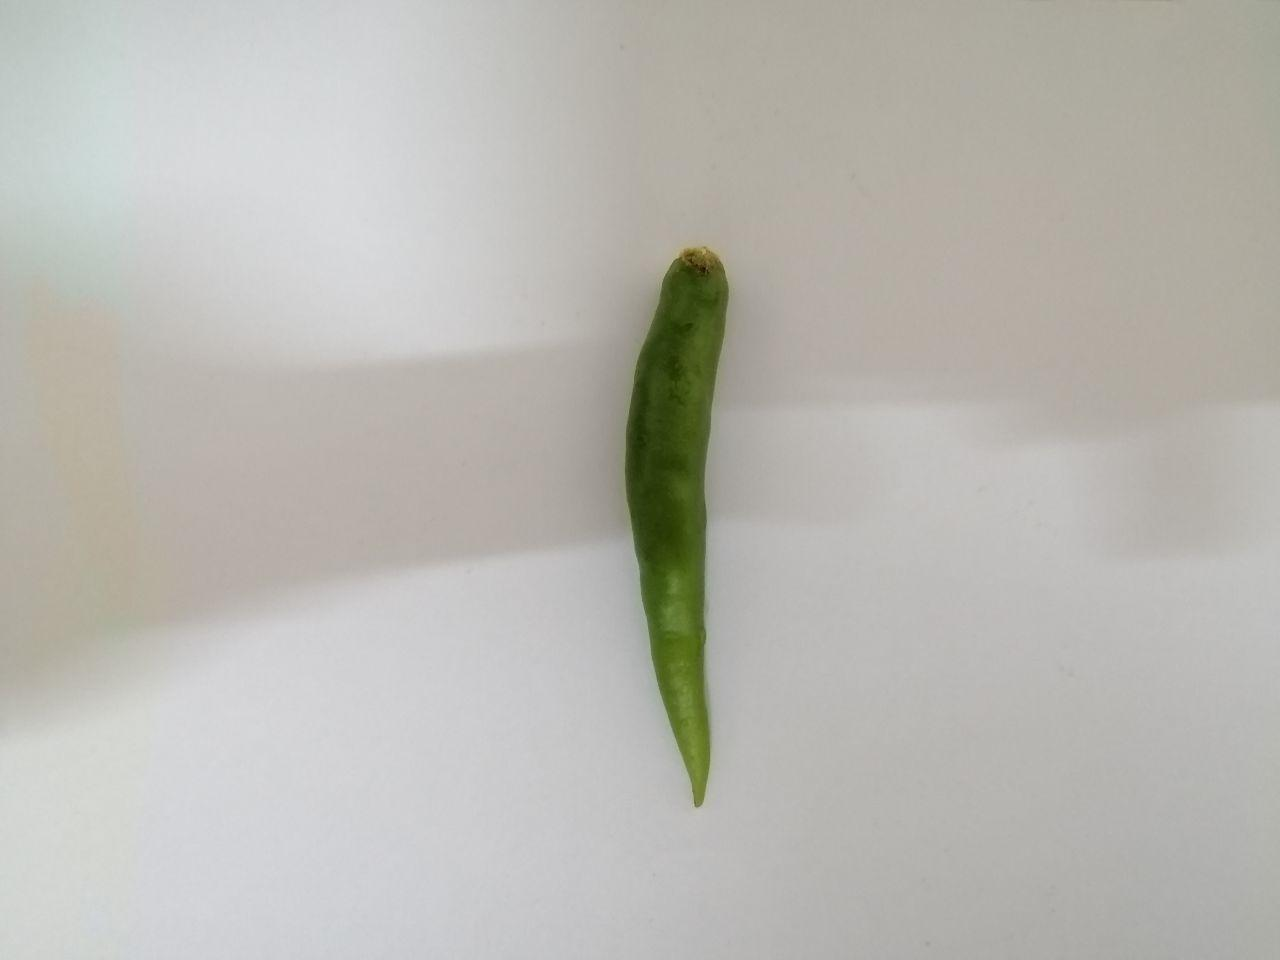lada hijau: (605, 230, 752, 821)
